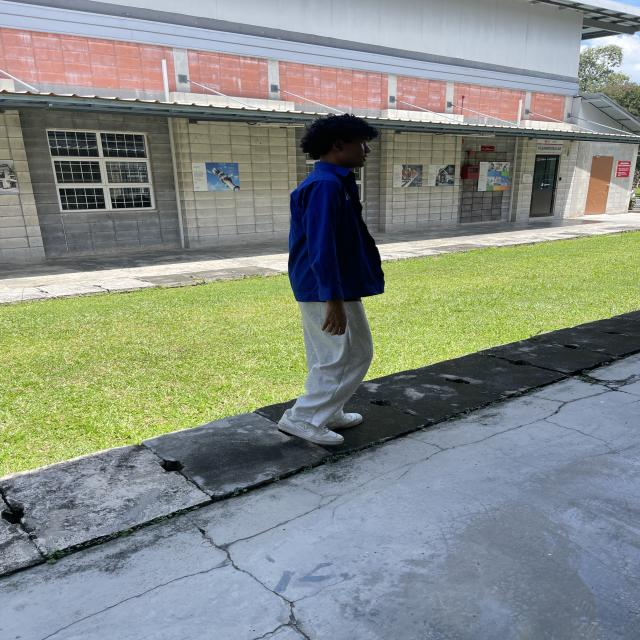person_with_labcoat: (279, 114, 384, 444)
